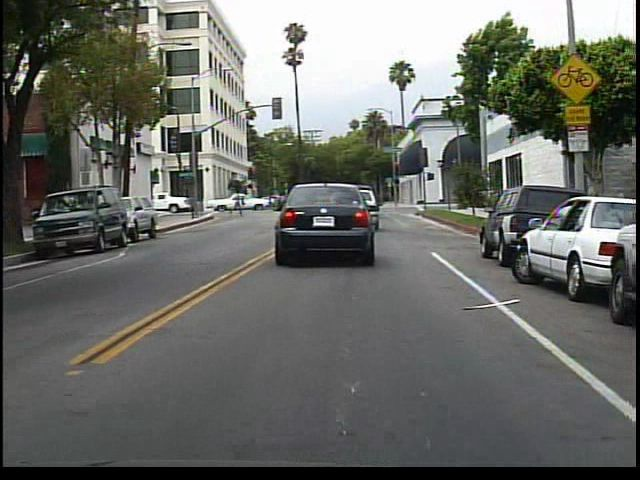person: (225, 187, 246, 218)
